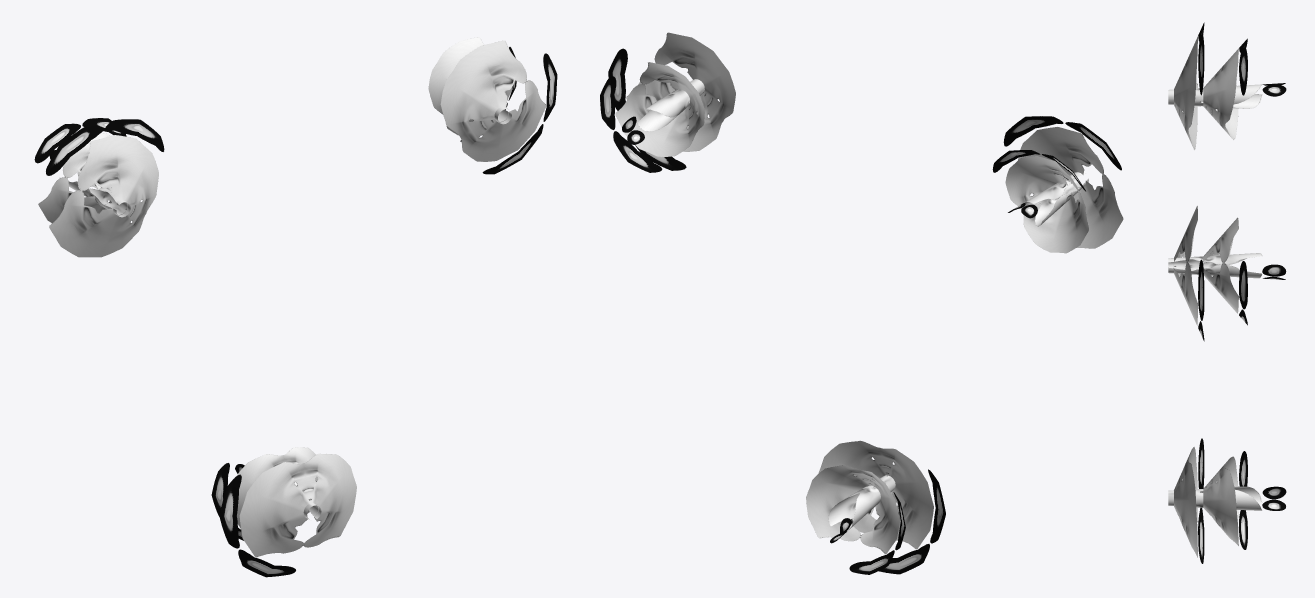
The model's file is toolgun_muzzle.obj.
The picture shows the model from 3 angles, left to right: view 1: azimuth 30°, elevation 25°; view 2: azimuth 150°, elevation 25°; view 3: azimuth 270°, elevation 25°; orthographic projection. The views are drawn at different scales.
Visible parts, largest first — view 1: Cylinder.001; view 2: Cylinder.001; view 3: Cylinder.001.
Part boxes in pixels (<box>): Cylinder.001: <box>34,37,557,577</box>; Cylinder.001: <box>600,32,1123,574</box>; Cylinder.001: <box>1168,22,1286,563</box>.
Bounding box in the file's own units: 0.8536 × 0.7832 × 0.2.
